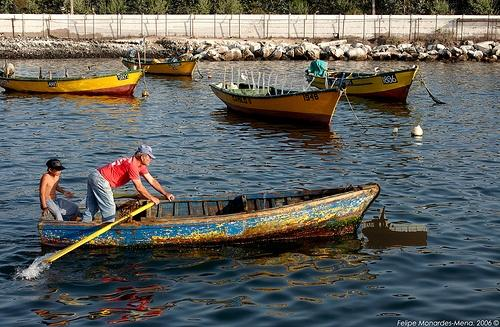tampered: (362, 207, 427, 249)
